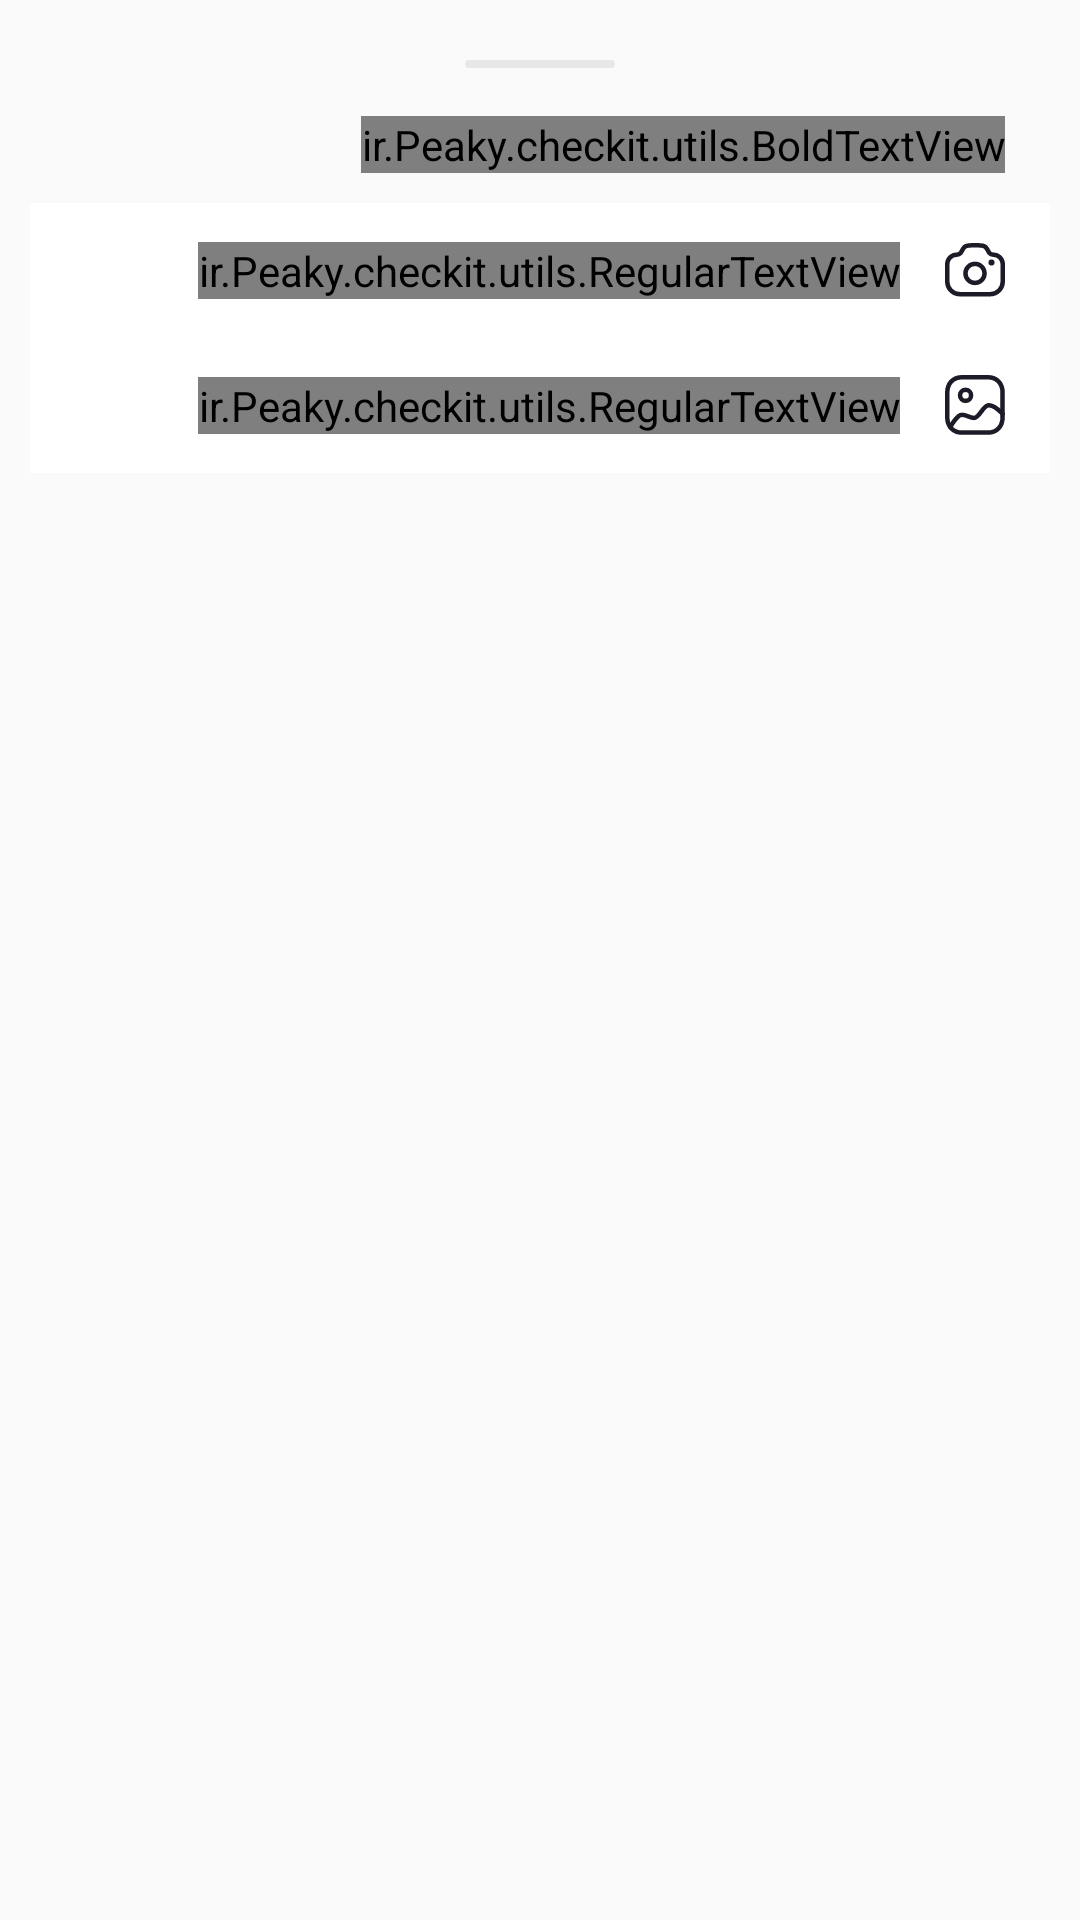

Named icons in this screenshot (1080 × 1920) and their bounding boxes, (x1, y1, x2, y2):
camera: (945, 243, 1005, 297)
gallery: (945, 375, 1005, 435)
